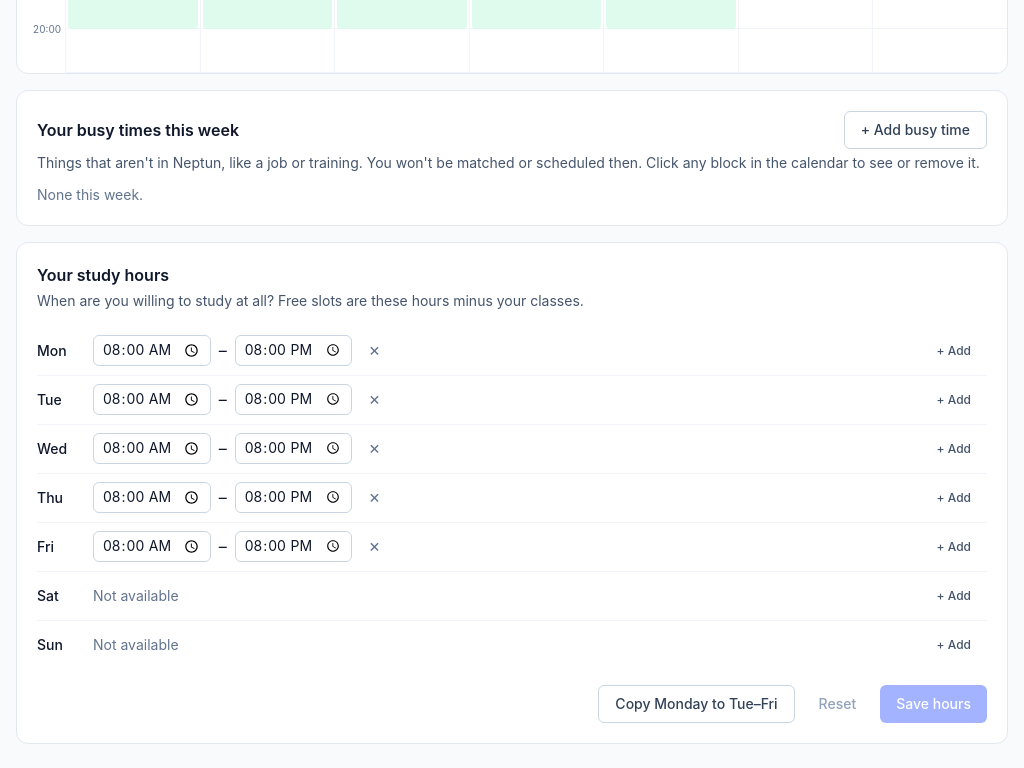
Study hours editor › adds weekend hours
(page scrolled)
Step 1. Click the button with aria-label "Add hours on Saturday" → (954,596), box [920,580,987,612]
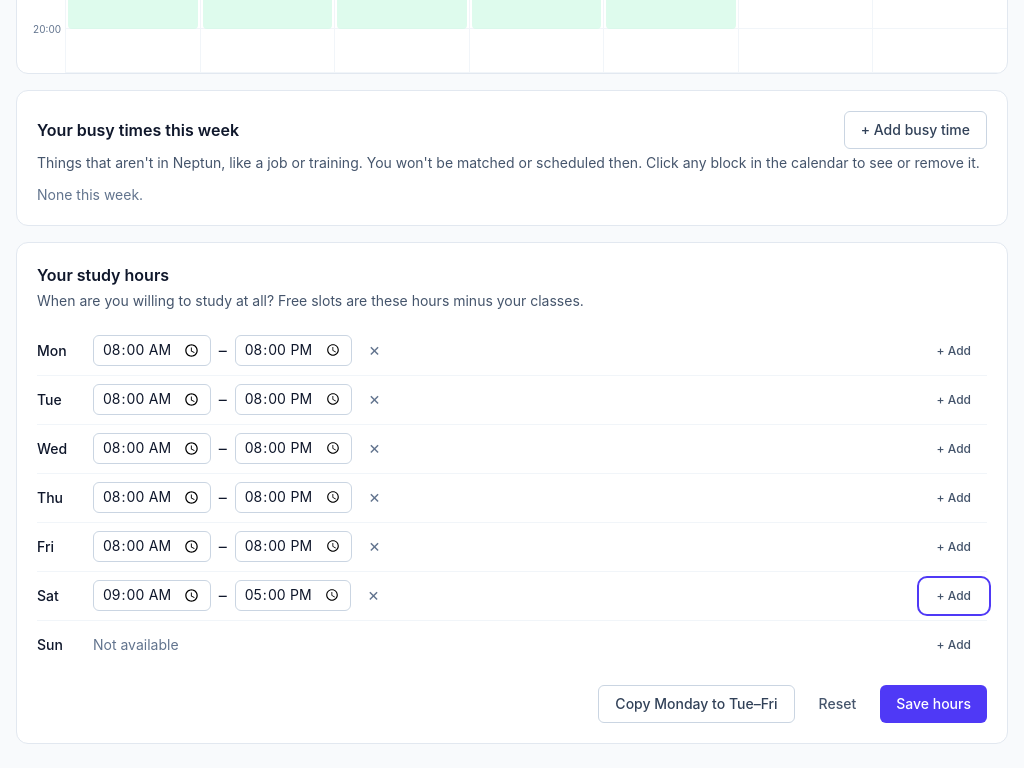
Step 2. Click the button "Save hours" → (934,704), box [880,685,987,723]
(page scrolled)
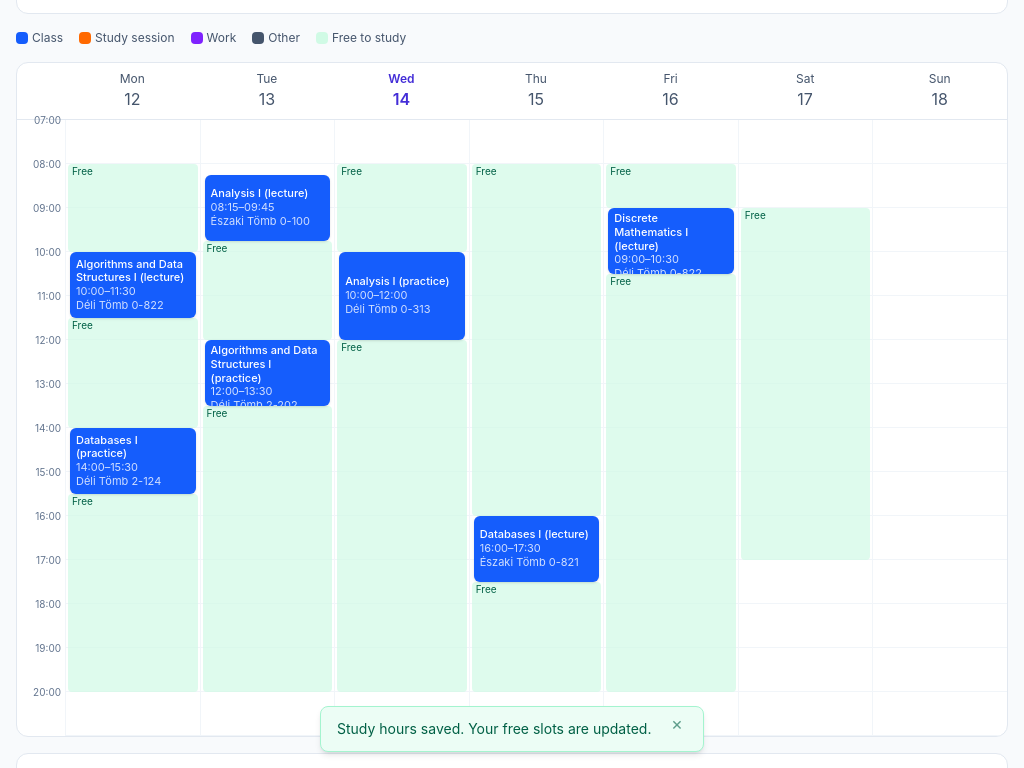
Expected: the text "Study hours saved. Your free slots are updated." is shown, [337,719,655,739]
Expected: the list item with aria-label "Free 09:00–17:00" is shown, [741,208,870,560]
